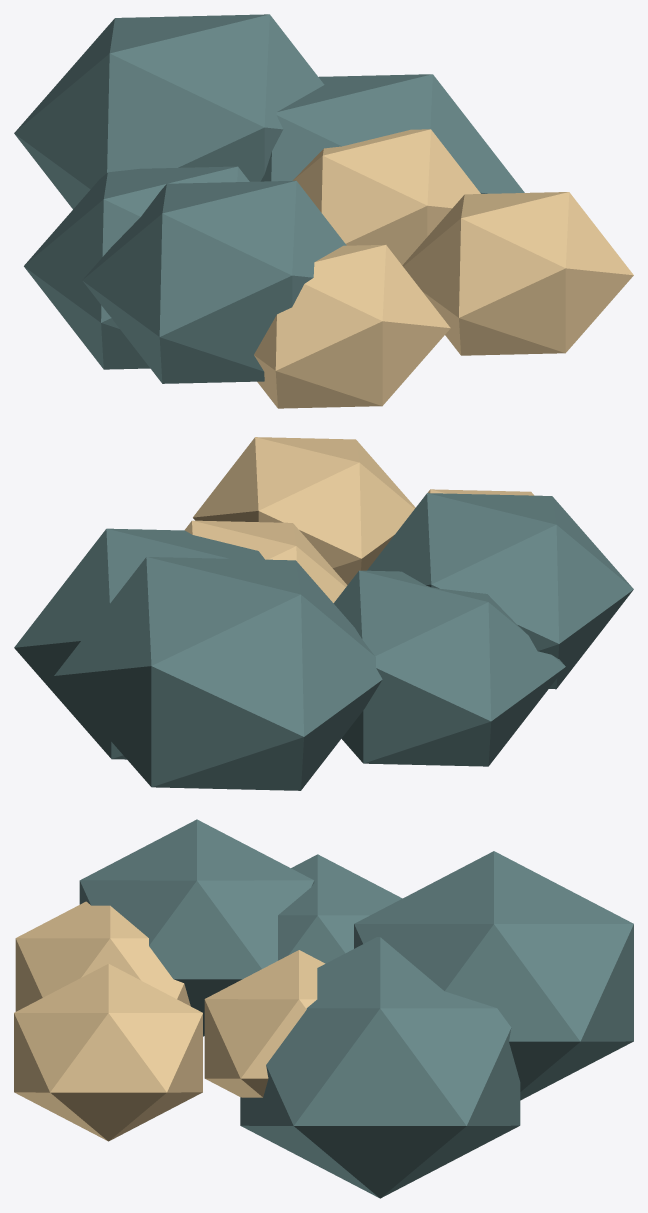
File: tidal-reef.glb
3 views of the same model, one above another, from view 1: azimuth 30°, elevation 25°; view 2: azimuth 150°, elevation 25°; view 3: azimuth 270°, elevation 25° (orthographic). The views are drawn at different scales.
Parts seen in each view (by area): view 1: tidal-reef (×7); view 2: tidal-reef (×6); view 3: tidal-reef (×7).
Boxes of the visible parts, x1=… form: tidal-reef (×7): x1=14, y1=14, x2=633, y2=408; tidal-reef (×6): x1=14, y1=437, x2=633, y2=790; tidal-reef (×7): x1=14, y1=819, x2=633, y2=1198.
Bounding box in the file's own units: 6.7 × 3.39 × 8.37.
